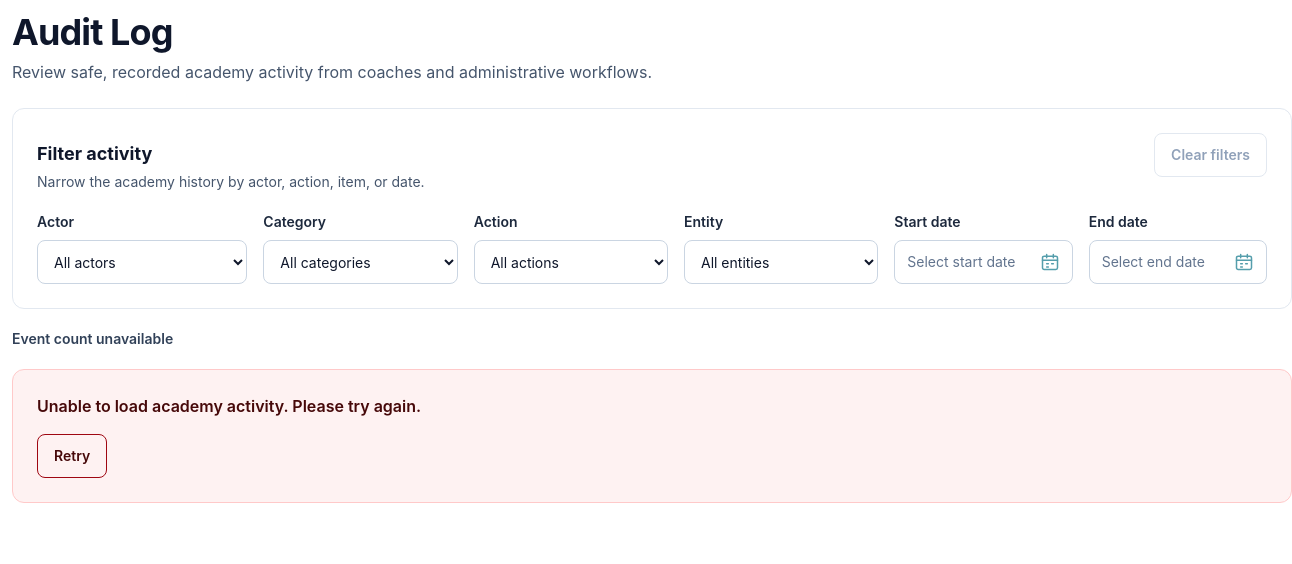
Test: BusinessAuditLogPage › does not expose raw backend error details and supports retry
Check: the message "Unable to load academy activity. Please try again. Retry" is shown, box [12, 369, 1291, 503]
Check: the message "Event count unavailable" is shown, box [12, 330, 173, 347]
Click the button "Retry". click: (72, 456)
box: [37, 434, 107, 478]
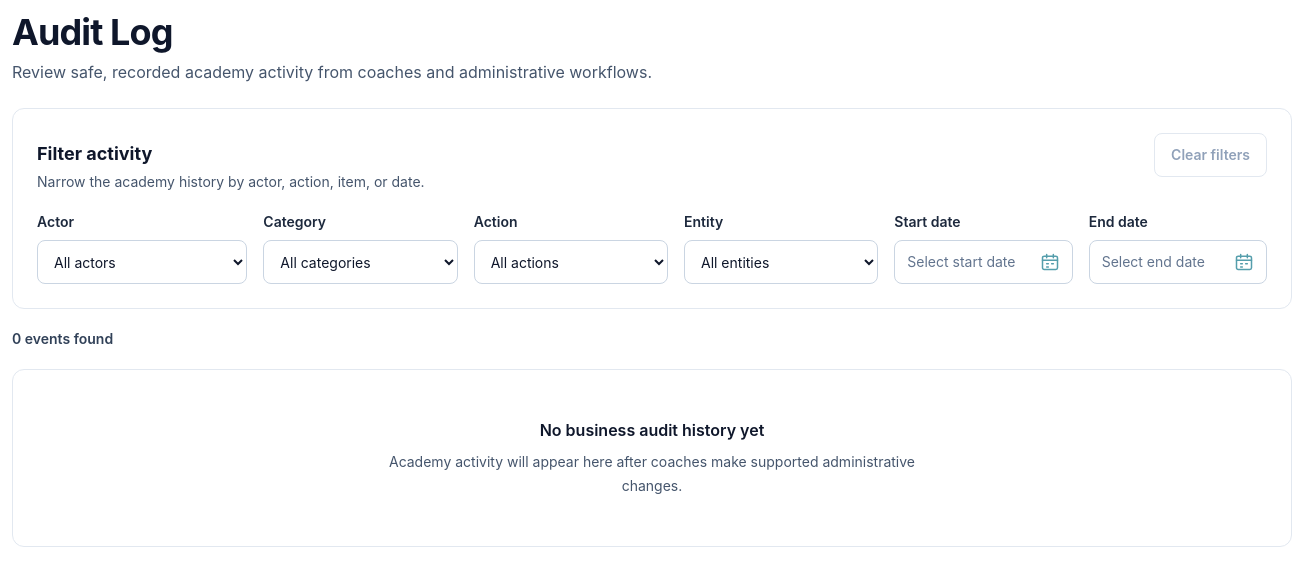
Check: the text "0 events found" is shown, box [12, 330, 113, 347]
